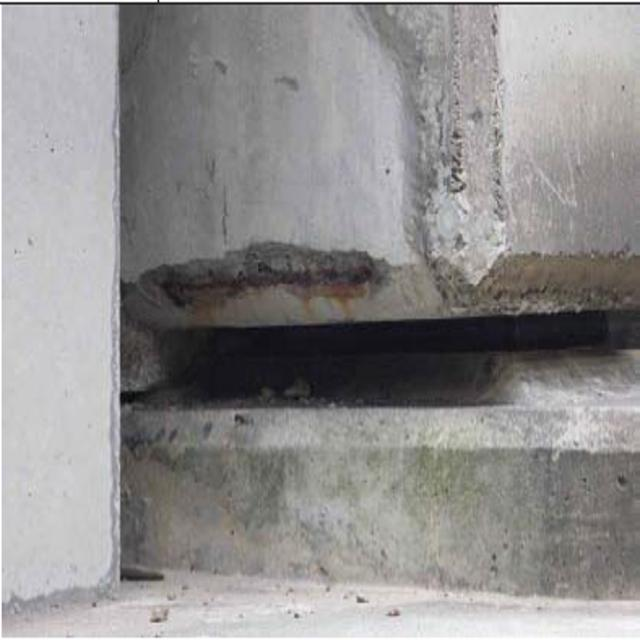spalling: (139, 224, 394, 327)
